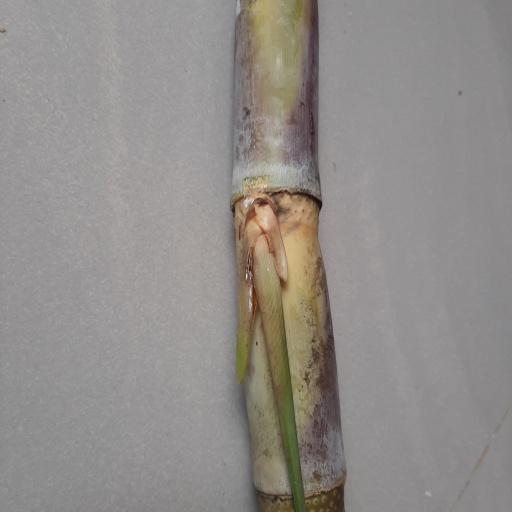Sprouted_Bud: (233, 196, 288, 295)
